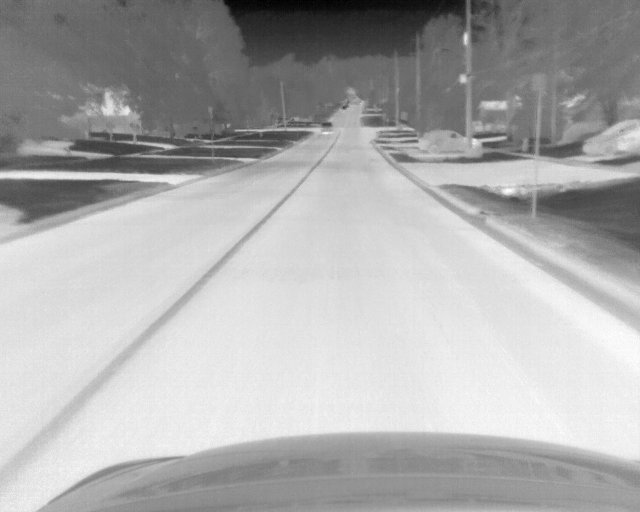car: (582, 117, 640, 160), (420, 128, 481, 155), (320, 122, 333, 136)
